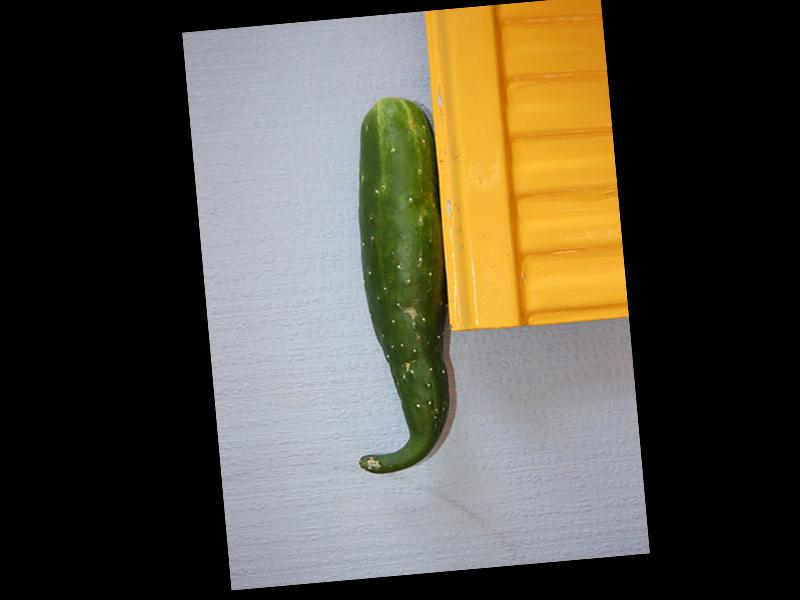Cucumber: (326, 96, 464, 477)
